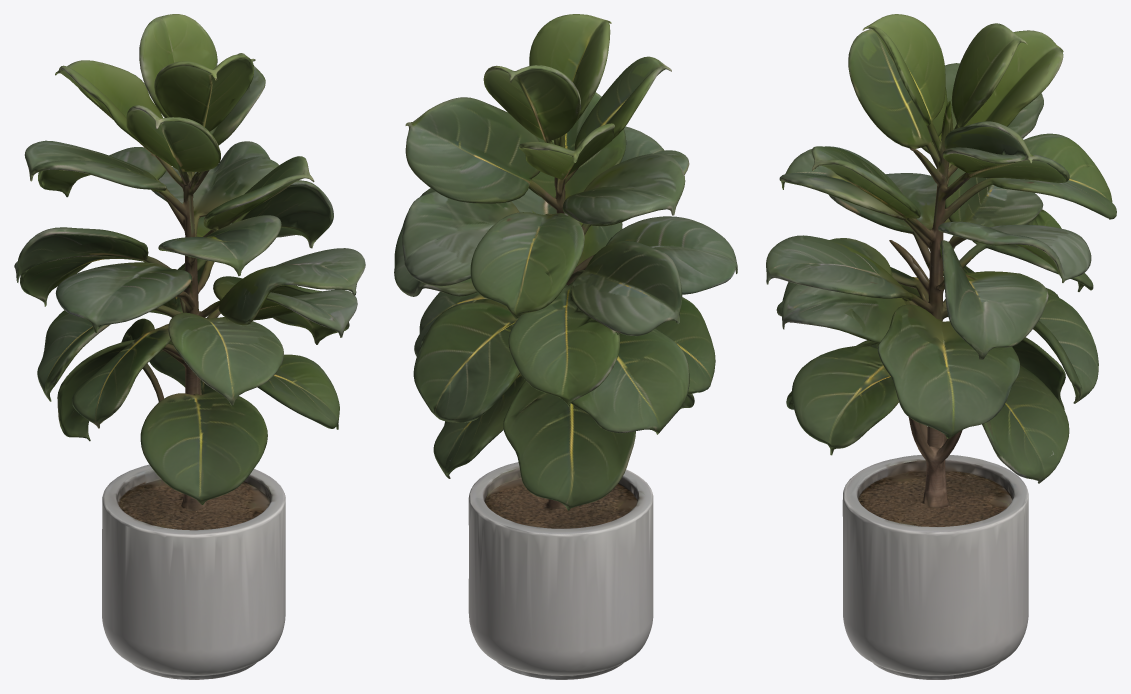
The model's file is PottedPlant.glb.
The picture shows the model from 3 angles, left to right: view 1: azimuth 30°, elevation 25°; view 2: azimuth 150°, elevation 25°; view 3: azimuth 270°, elevation 25°; orthographic projection. The views are drawn at different scales.
Visible parts, largest first — view 1: node_0, node_0.001, node_0.002; view 2: node_0, node_0.001, node_0.002; view 3: node_0, node_0.001, node_0.002.
Boxes of the visible parts, x1=… form: node_0: x1=37, y1=266, x2=349, y2=679; node_0.001: x1=23, y1=14, x2=326, y2=277; node_0.002: x1=14, y1=178, x2=365, y2=397; node_0: x1=413, y1=291, x2=715, y2=679; node_0.001: x1=402, y1=14, x2=689, y2=307; node_0.002: x1=394, y1=188, x2=737, y2=403; node_0: x1=786, y1=276, x2=1098, y2=679; node_0.001: x1=779, y1=14, x2=1116, y2=298; node_0.002: x1=766, y1=173, x2=1112, y2=385.
Bounding box in the file's own units: 0.5978 × 1.18 × 0.5994.
1 material, 1 textured.
